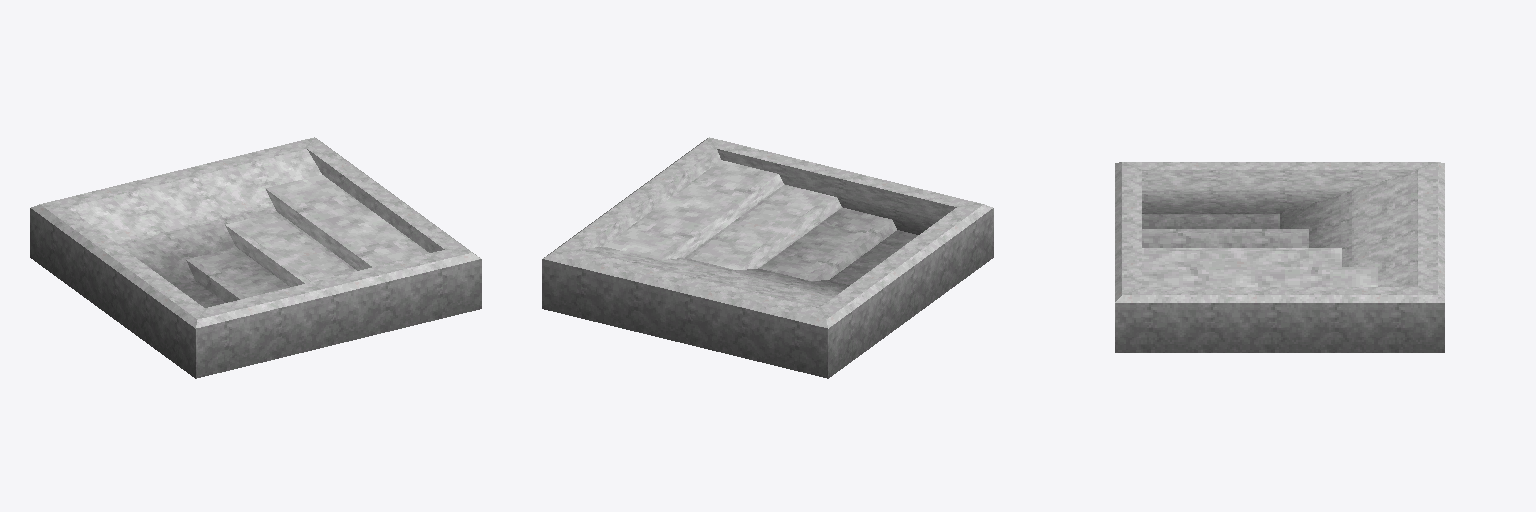
3 renders of one model, left to right at view 1: azimuth 30°, elevation 25°; view 2: azimuth 150°, elevation 25°; view 3: azimuth 270°, elevation 25°, orthographic.
Visible parts, largest first — view 1: ev_stairs_down; view 2: ev_stairs_down; view 3: ev_stairs_down.
Boxes of the visible parts, x1,y1,x2,y2 form: ev_stairs_down: [30, 137, 481, 378]; ev_stairs_down: [542, 137, 993, 378]; ev_stairs_down: [1115, 162, 1444, 352].
Size of the model in its own units: 1 by 0.1837 by 1.
1 materials, 1 textured.